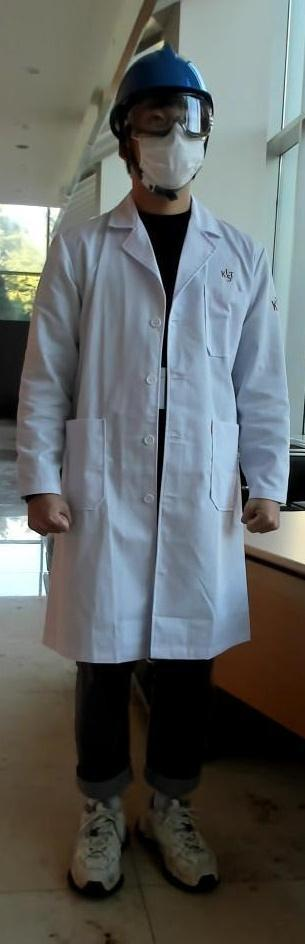lab_coat: (58, 234, 250, 655)
